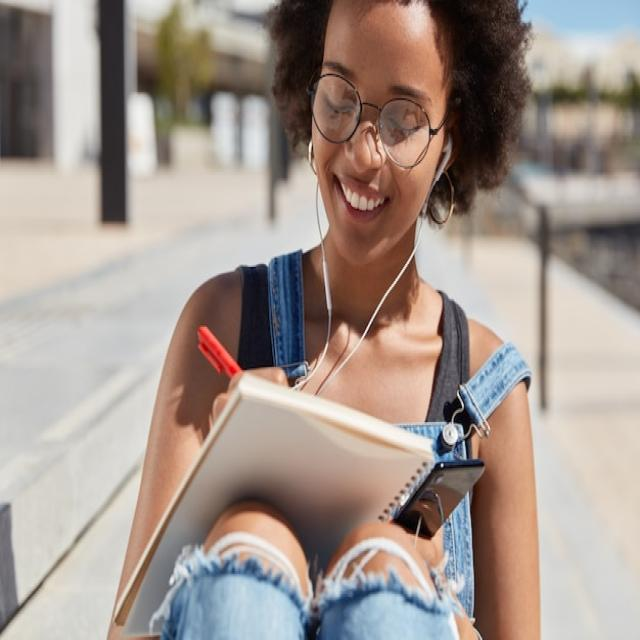Earphone: (288, 128, 453, 389)
